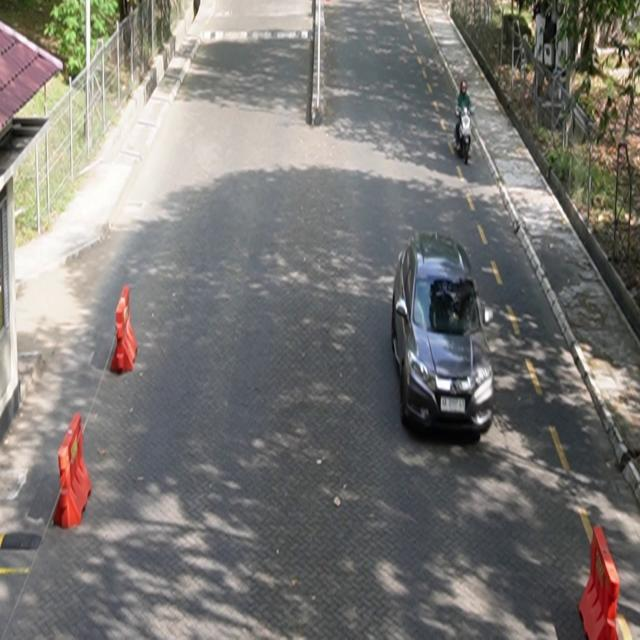car: (392, 231, 495, 439)
